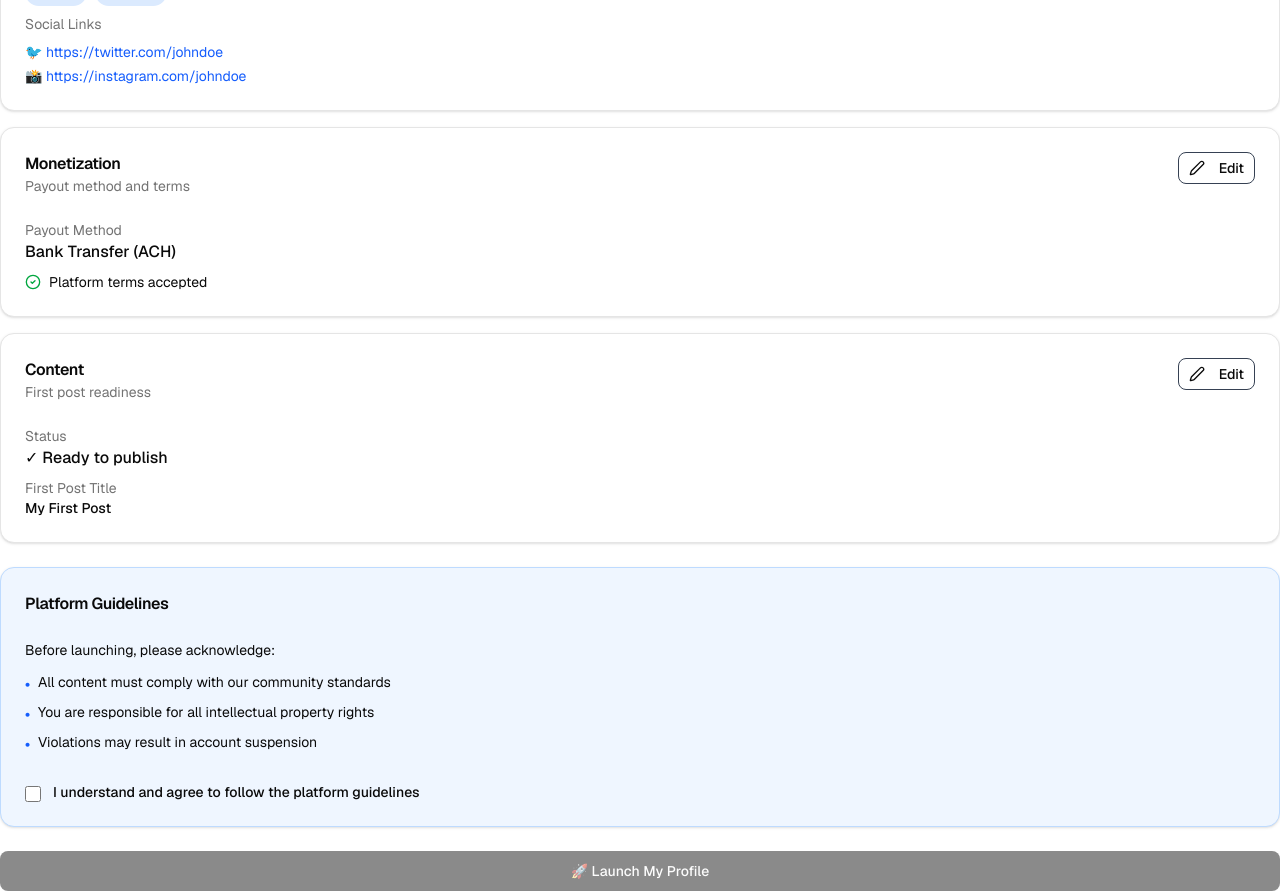
Test: ReviewStep › should require guidelines acceptance before launch
(page scrolled)
Expected: the button "🚀 Launch My Profile" is disabled, [0,851,1279,890]
// Find and check the guidelines checkbox
Click the checkbox at x=33, y=794, box [25,786,41,802]
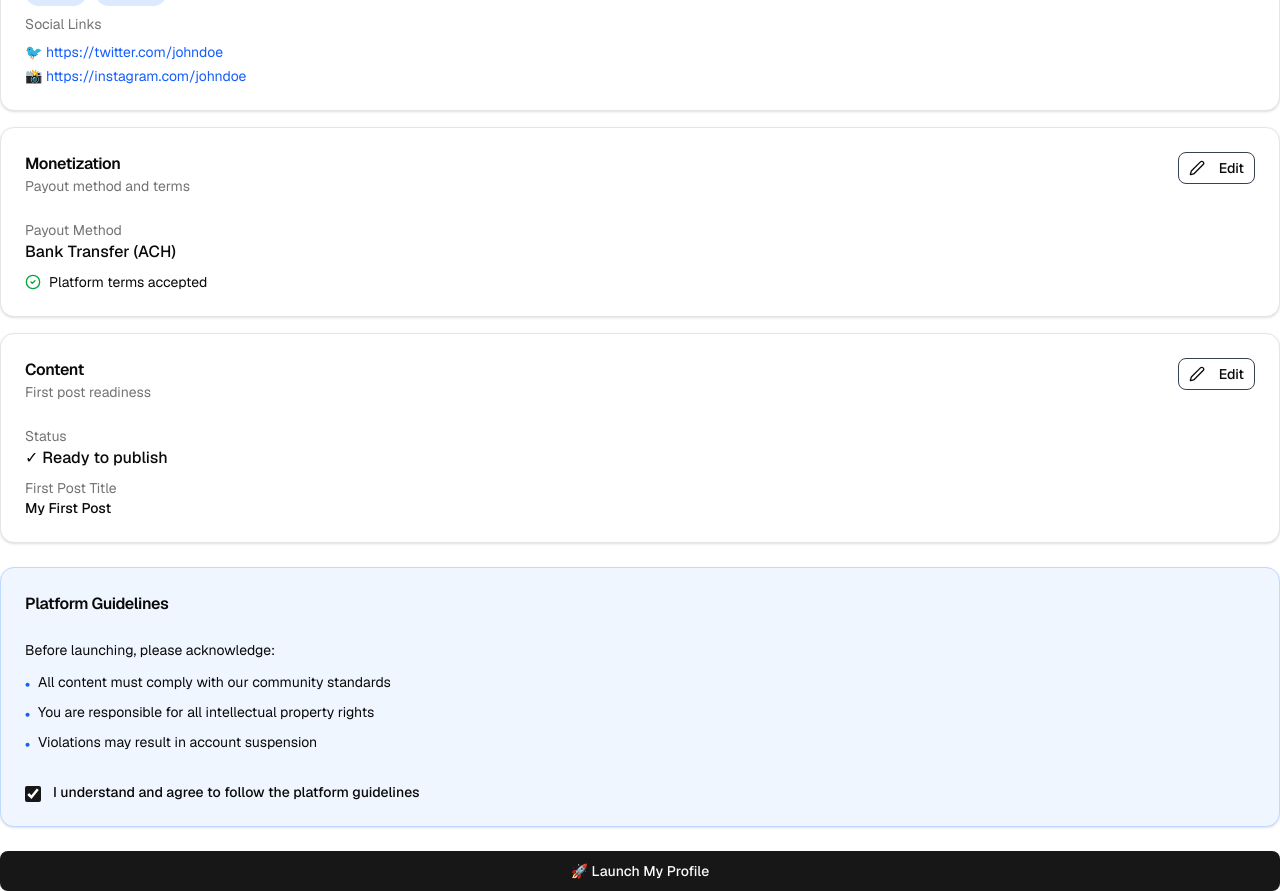
Expected: the button "🚀 Launch My Profile" is enabled, [0,851,1279,890]
